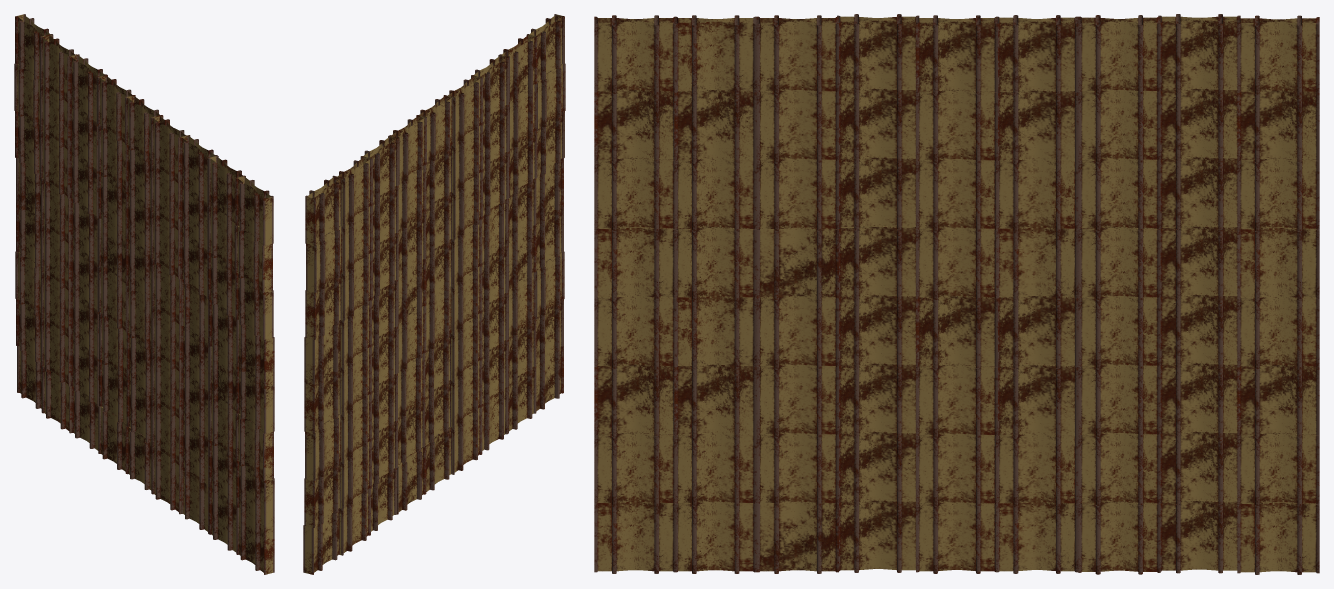
File: Back Wall.fbx
The picture shows the model from 3 angles, left to right: view 1: azimuth 30°, elevation 25°; view 2: azimuth 150°, elevation 25°; view 3: azimuth 270°, elevation 25°; orthographic projection. The views are drawn at different scales.
Visible parts, largest first — view 1: shipWall_short__341_, shipWall_short__333_, shipWall_short__365_, shipWall_short__373_, shipWall_short__357_, shipWall_short__253_, shipWall_short__381_, shipWall_short__325_, shipWall_short__338_, shipWall_short__310_, shipWall_short__336_, shipWall_short__340_ (+60 smaller); view 2: shipWall_short__309_, shipWall_short__301_, shipWall_short__269_, shipWall_short__277_, shipWall_short__310_, shipWall_short__261_, shipWall_short__293_, shipWall_short__221_, shipWall_short__285_, shipWall_short__338_, shipWall_short__336_, shipWall_short__340_ (+60 smaller); view 3: shipWall_short__309_, shipWall_short__311_, shipWall_short__340_, shipWall_short__339_, shipWall_short__337_, shipWall_short__341_, shipWall_short__336_, shipWall_short__380_, shipWall_short__223_, shipWall_short__285_, shipWall_short__221_, shipWall_short__379_ (+60 smaller).
Boxes of the visible parts, bbox=[...] form: shipWall_short__341_: bbox=[235, 176, 273, 245]; shipWall_short__333_: bbox=[234, 225, 272, 292]; shipWall_short__365_: bbox=[235, 413, 273, 480]; shipWall_short__373_: bbox=[236, 366, 274, 433]; shipWall_short__357_: bbox=[236, 461, 274, 527]; shipWall_short__253_: bbox=[237, 508, 274, 574]; shipWall_short__381_: bbox=[236, 320, 274, 386]; shipWall_short__325_: bbox=[235, 273, 273, 339]; shipWall_short__338_: bbox=[150, 115, 188, 185]; shipWall_short__310_: bbox=[40, 34, 78, 104]; shipWall_short__336_: bbox=[97, 75, 135, 144]; shipWall_short__340_: bbox=[208, 155, 245, 225]; shipWall_short__309_: bbox=[305, 175, 343, 245]; shipWall_short__301_: bbox=[306, 226, 342, 292]; shipWall_short__269_: bbox=[305, 414, 341, 480]; shipWall_short__277_: bbox=[304, 366, 340, 433]; shipWall_short__310_: bbox=[334, 156, 372, 226]; shipWall_short__261_: bbox=[304, 461, 340, 527]; shipWall_short__293_: bbox=[305, 273, 341, 339]; shipWall_short__221_: bbox=[303, 508, 339, 574]; shipWall_short__285_: bbox=[304, 320, 340, 386]; shipWall_short__338_: bbox=[445, 75, 482, 145]; shipWall_short__336_: bbox=[389, 115, 426, 184]; shipWall_short__340_: bbox=[499, 34, 537, 103]; shipWall_short__309_: bbox=[1237, 15, 1319, 94]; shipWall_short__311_: bbox=[1078, 15, 1160, 93]; shipWall_short__340_: bbox=[674, 15, 756, 93]; shipWall_short__339_: bbox=[756, 15, 838, 93]; shipWall_short__337_: bbox=[916, 15, 997, 93]; shipWall_short__341_: bbox=[594, 15, 676, 93]; shipWall_short__336_: bbox=[996, 15, 1078, 93]; shipWall_short__380_: bbox=[674, 227, 756, 299]; shipWall_short__223_: bbox=[1078, 501, 1160, 574]; shipWall_short__285_: bbox=[1237, 227, 1319, 300]; shipWall_short__221_: bbox=[1237, 502, 1319, 574]; shipWall_short__379_: bbox=[756, 227, 838, 299].
Size of the model in its own units: 81.6 by 1600 by 1919.
Materials: 1 (1 with a texture image).
